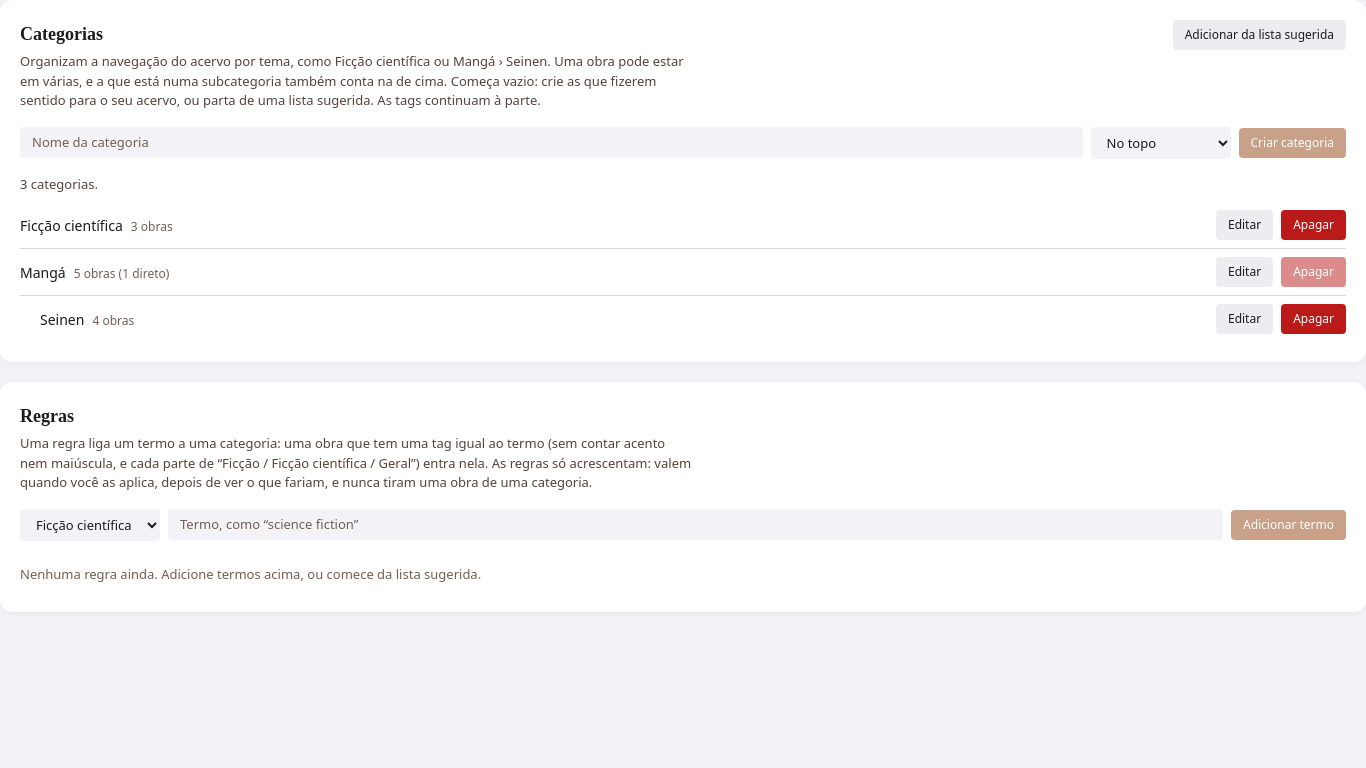
Test: CategoriesTab › keeps the buttons still while something is saved
Step 1. Click the button "Apagar" in the row of "4 obras" → coordinates (1314, 319), box [1281, 304, 1346, 334]
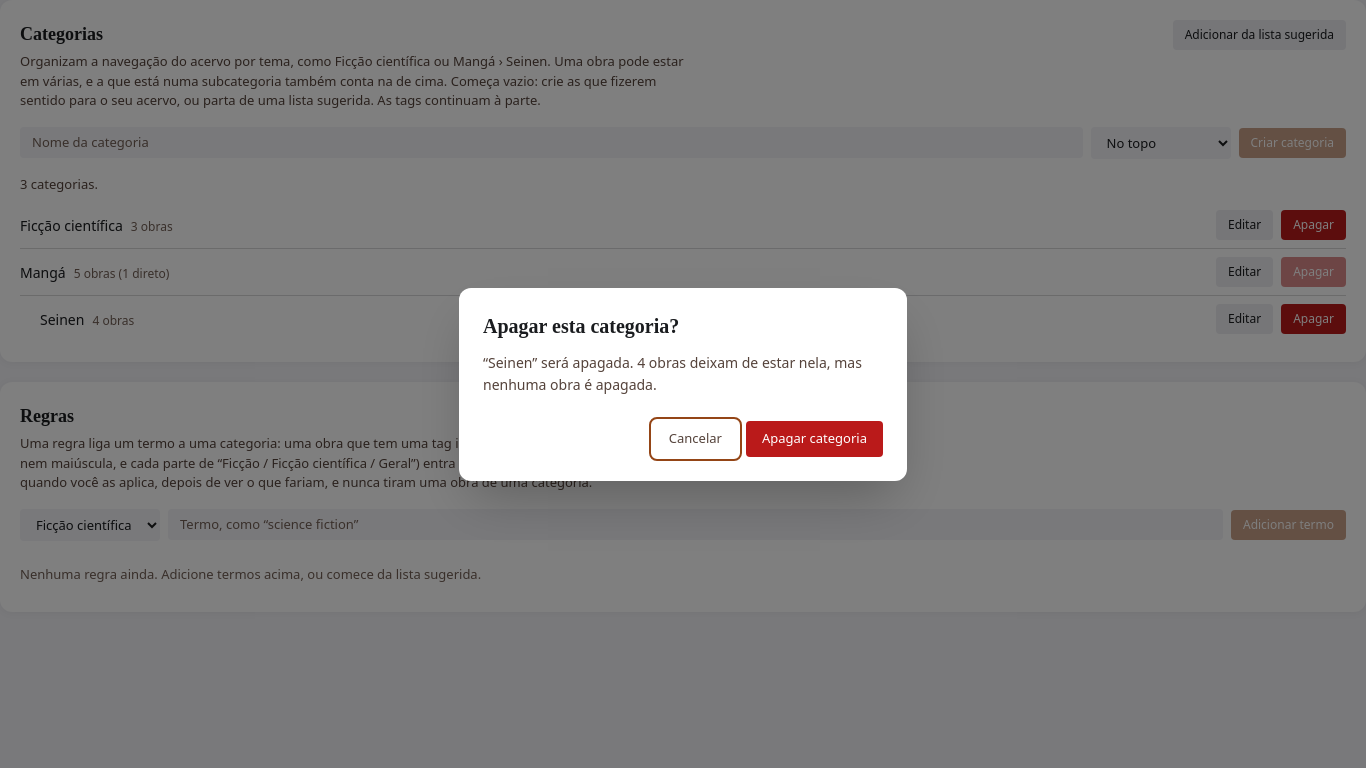
Step 2. Click the button "Apagar categoria" → coordinates (814, 439), box [746, 421, 883, 456]
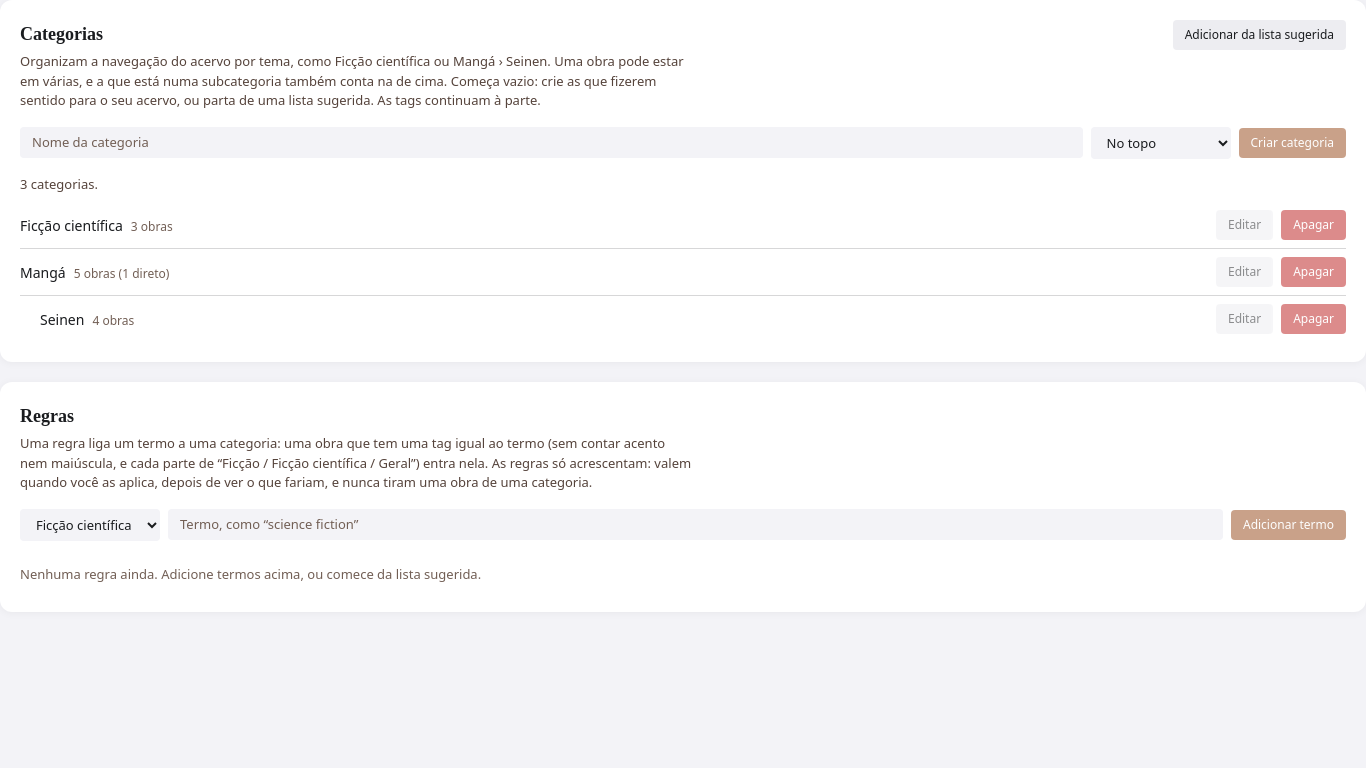
Expected: the button "Criar categoria" is disabled, [1238, 128, 1346, 158]
Now the button "Editar" in the row of "3 obras" is disabled, box [1216, 210, 1273, 240]
Now the button "Apagar" in the row of "3 obras" is disabled, box [1281, 210, 1346, 240]
